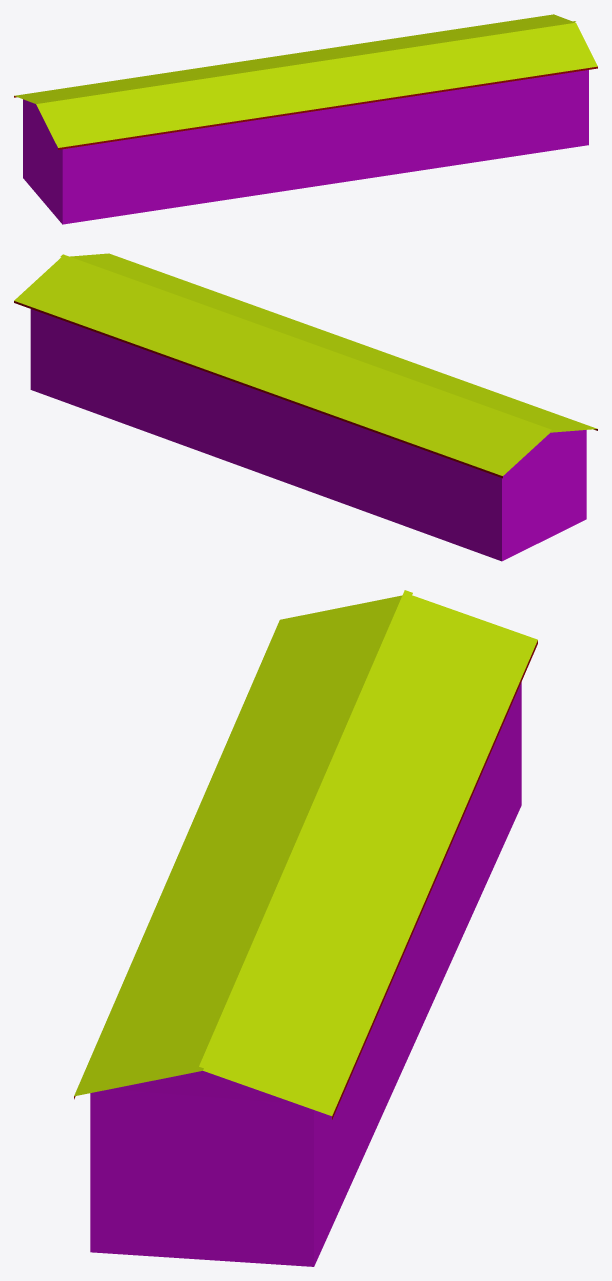
File: ssv_87.glb
3 views of the same model, one above another, from view 1: azimuth 30°, elevation 25°; view 2: azimuth 150°, elevation 25°; view 3: azimuth 270°, elevation 25° (orthographic). The views are drawn at different scales.
Visible parts, largest first — view 1: ssv_87; view 2: ssv_87; view 3: ssv_87.
Part boxes in pixels (x1=…): ssv_87: x1=14, y1=14, x2=597, y2=224; ssv_87: x1=14, y1=253, x2=597, y2=561; ssv_87: x1=74, y1=590, x2=537, y2=1266.
Size of the model in its own units: 33.48 by 6.29 by 13.23.
